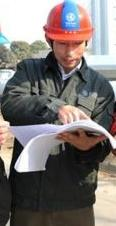hard-hat: (0, 0, 35, 45)
vest: (0, 50, 58, 226)
